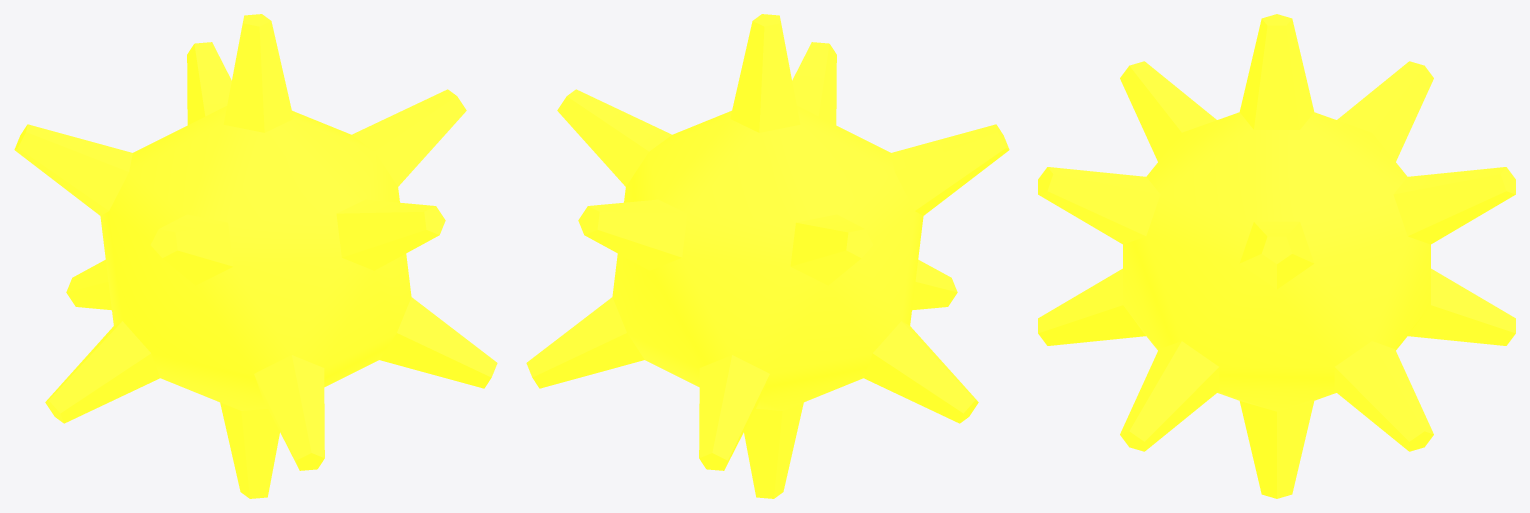
The model's file is Spell Pollen.fbx.
3 views of the same model, side by side, from view 1: azimuth 30°, elevation 25°; view 2: azimuth 150°, elevation 25°; view 3: azimuth 270°, elevation 25° (orthographic).
Parts seen in each view (by area): view 1: Pollen v2; view 2: Pollen v2; view 3: Pollen v2.
Part boxes in pixels (x1,y1,x2,y2): Pollen v2: (14, 14, 497, 498); Pollen v2: (526, 14, 1009, 498); Pollen v2: (1038, 14, 1515, 498).
Bounding box in the file's own units: 60.03 × 65.42 × 60.03.
